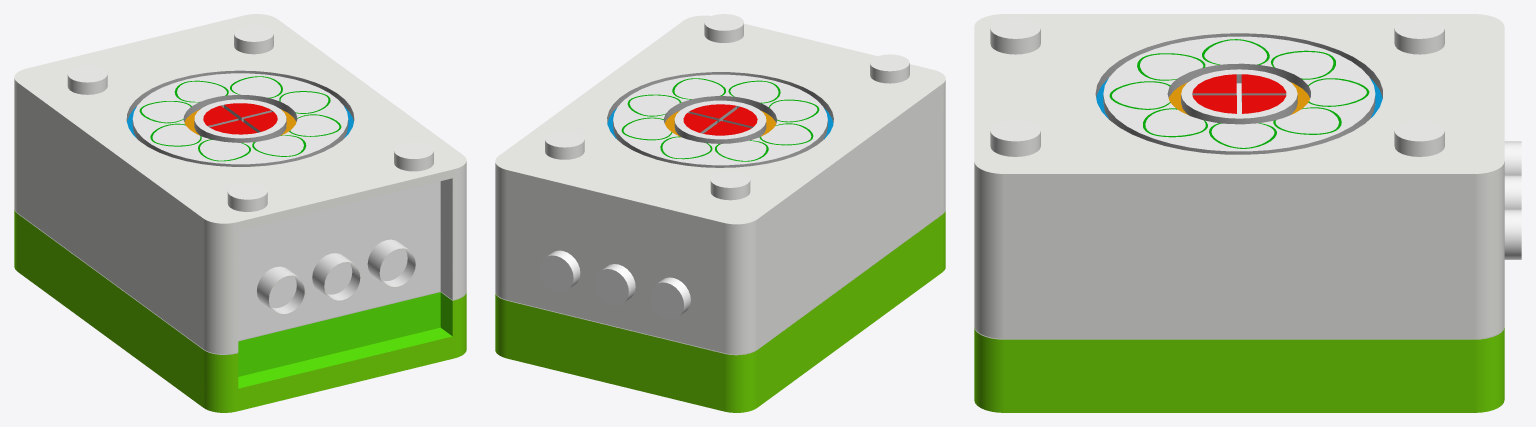
File: tile-one-tong.glb
3 views of the same model, side by side, from view 1: azimuth 30°, elevation 25°; view 2: azimuth 150°, elevation 25°; view 3: azimuth 270°, elevation 25° (orthographic). The views are drawn at different scales.
Size of the model in its own units: 0.0375 by 0.0278 by 0.0542.
